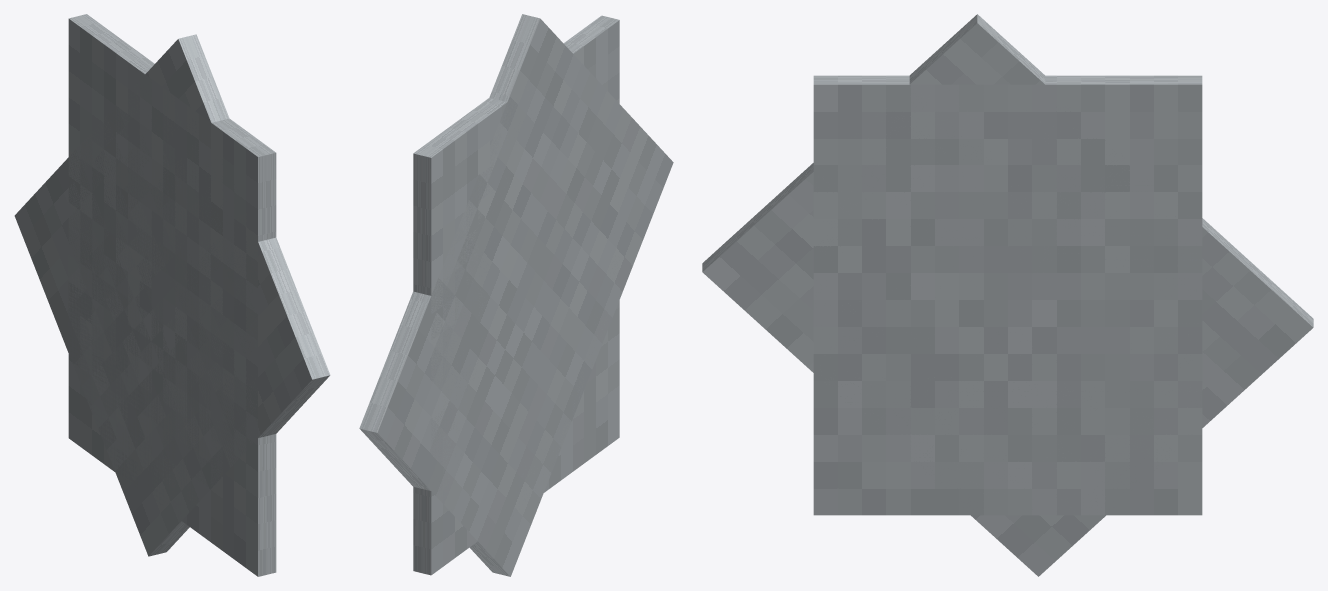
Rendered from sawmill_blade.obj.
3 renders of one model, left to right at view 1: azimuth 30°, elevation 25°; view 2: azimuth 150°, elevation 25°; view 3: azimuth 270°, elevation 25°, orthographic. The views are drawn at different scales.
Visible parts, largest first — view 1: blade_0, blade_45; view 2: blade_45, blade_0; view 3: blade_0, blade_45.
Part boxes in pixels (x1,y1,x2,y2): blade_0: (68, 14, 276, 576); blade_45: (14, 34, 330, 556); blade_45: (359, 14, 673, 576); blade_0: (413, 15, 619, 575); blade_0: (813, 75, 1202, 515); blade_45: (702, 14, 1313, 576).
Size of the model in its own units: 0.0625 by 1.77 by 1.77.
